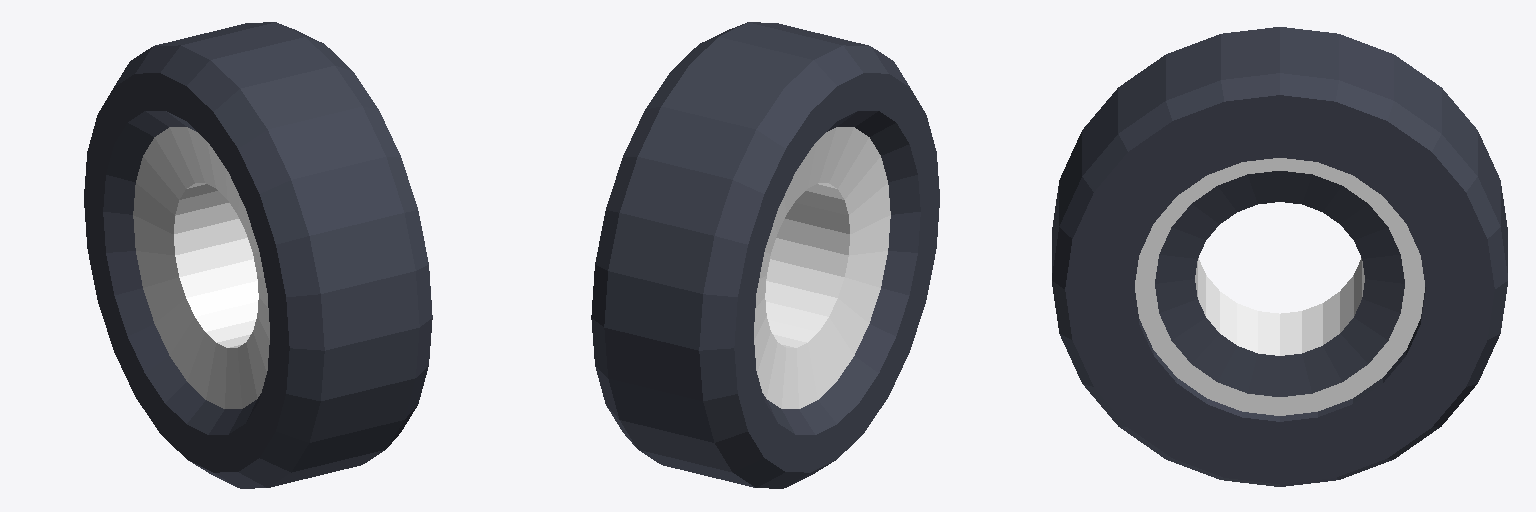
The model's file is Wheel03.obj.
3 views of the same model, side by side, from view 1: azimuth 30°, elevation 25°; view 2: azimuth 150°, elevation 25°; view 3: azimuth 270°, elevation 25° (orthographic).
Parts seen in each view (by area): view 1: Wheel03; view 2: Wheel03; view 3: Wheel03.
Part boxes in pixels (bbox=[...]): Wheel03: bbox=[84, 22, 432, 488]; Wheel03: bbox=[591, 22, 939, 488]; Wheel03: bbox=[1052, 27, 1507, 486].
Bounding box in the file's own units: 0.2156 × 0.6161 × 0.6161.